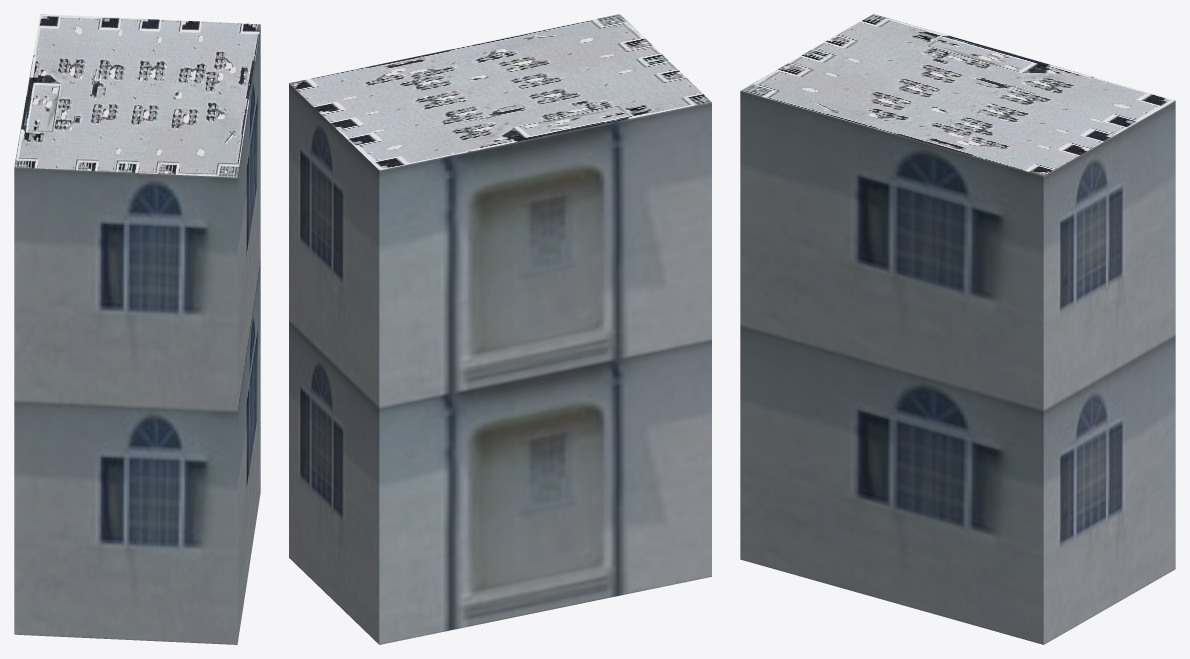
Rendered from ResTex__2034.fbx.
The picture shows the model from 3 angles, left to right: view 1: azimuth 30°, elevation 25°; view 2: azimuth 150°, elevation 25°; view 3: azimuth 270°, elevation 25°; orthographic projection.
Parts seen in each view (by area): view 1: CityEngineMaterial_17_m, CityEngineMaterial_4_m; view 2: CityEngineMaterial_17_m, CityEngineMaterial_4_m; view 3: CityEngineMaterial_17_m, CityEngineMaterial_4_m.
Part boxes in pixels (left/top/right/bottom): CityEngineMaterial_17_m: left=14, top=26, right=260, bottom=644; CityEngineMaterial_4_m: left=14, top=14, right=260, bottom=177; CityEngineMaterial_17_m: left=289, top=83, right=711, bottom=644; CityEngineMaterial_4_m: left=289, top=14, right=711, bottom=170; CityEngineMaterial_17_m: left=740, top=91, right=1175, bottom=644; CityEngineMaterial_4_m: left=740, top=14, right=1175, bottom=176.
Bounding box in the file's own units: 4.45 × 6 × 5.05.
Materials: 2 (2 with a texture image).
